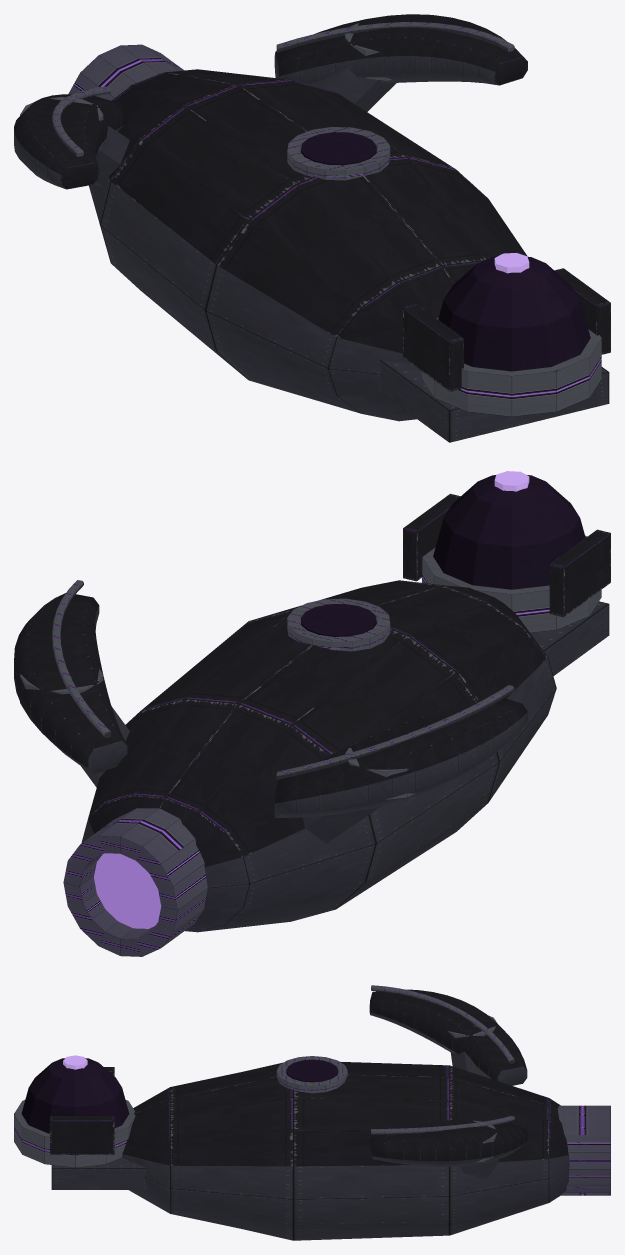
Rendered from pioneer-eris-l01-shield.glb.
3 renders of one model, top to bottom at view 1: azimuth 30°, elevation 25°; view 2: azimuth 150°, elevation 25°; view 3: azimuth 270°, elevation 25°, orthographic. The views are drawn at different scales.
Parts seen in each view (by area): view 1: Drone; view 2: Drone; view 3: Drone.
Part boxes in pixels (x1,y1,x2,y2): Drone: (14, 14, 610, 442); Drone: (14, 471, 610, 956); Drone: (14, 985, 610, 1240).
Bounding box in the file's own units: 0.7866 × 0.3952 × 1.26.
3 materials, 3 textured.
